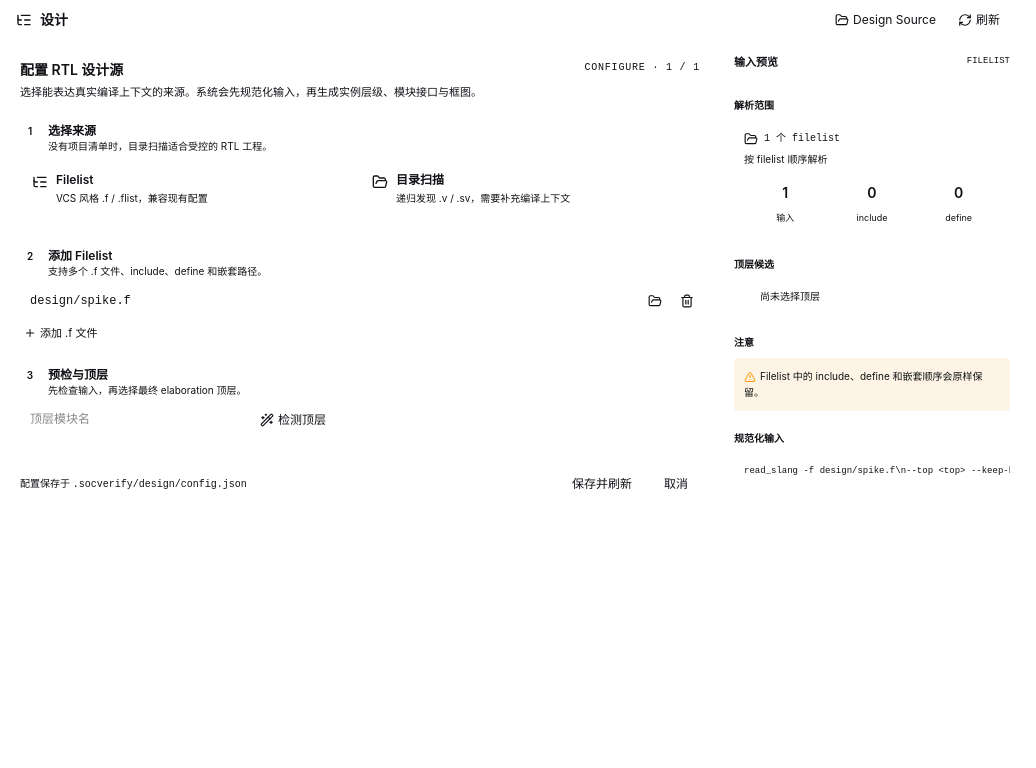
Scenario: DesignView 顶层选择器（issue 03） › 检测顶层失败时显示错误消息 + yosys 输出详情（可折叠）
The image size is (1036, 768).
Click the button with test id "design-detect-tops". click: (293, 420)
box: [250,406,336,434]
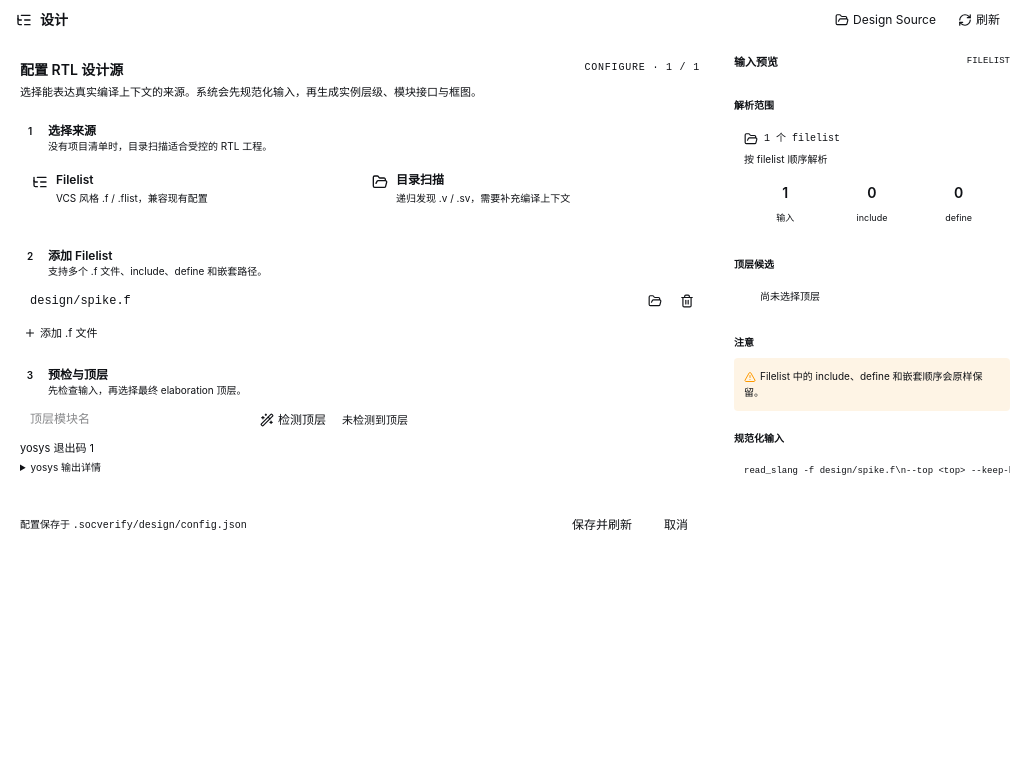
Expected: the element with test id "design-detect-error" shows "yosys 退出码 1", [20,441,94,455]
Expected: the heading "yosys 输出详情" is shown, [31,461,101,473]
